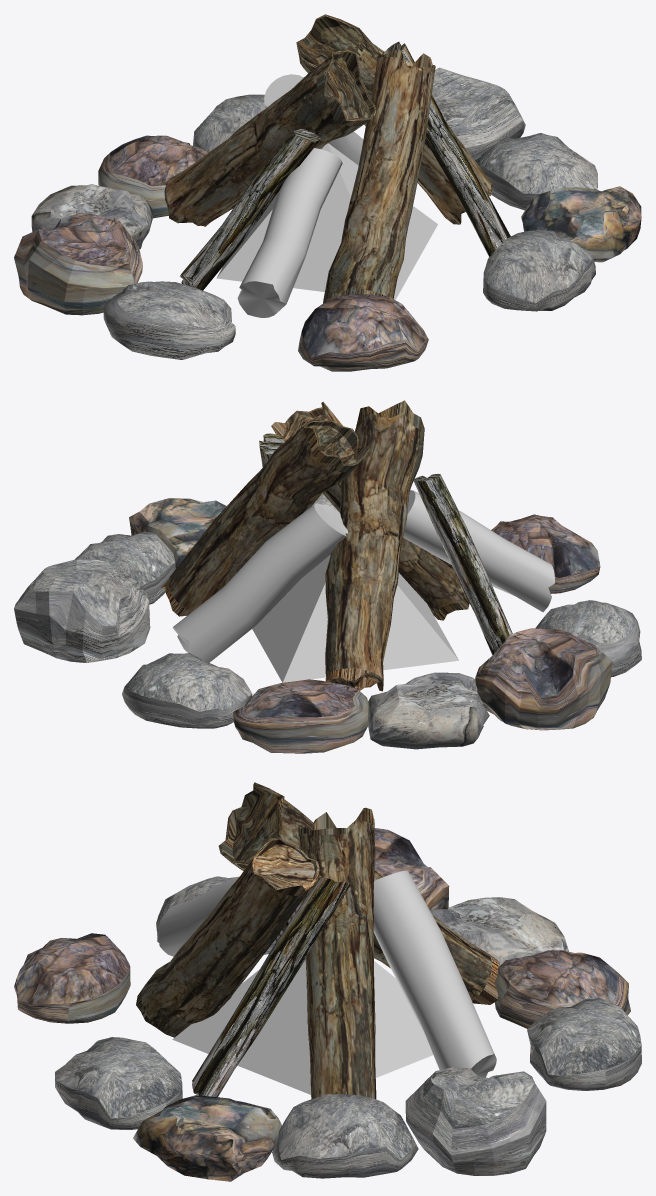
The model's file is Bonfire.fbx.
3 views of the same model, one above another, from view 1: azimuth 30°, elevation 25°; view 2: azimuth 150°, elevation 25°; view 3: azimuth 270°, elevation 25° (orthographic). The views are drawn at different scales.
Visible parts, largest first — view 1: pCylinder24, pCylinder27, pCylinder23, pCylinder20, pCylinder16, pCylinder5, pCylinder14, pPyramid1, pCube1, pCylinder10, pCylinder26, pCylinder6 (+6 smaller); view 2: pCylinder27, pCylinder26, pCylinder22, pCylinder23, pCylinder1, pPyramid1, pCylinder21, pCube2, pCylinder9, pCylinder5, pCylinder6, pCylinder24 (+4 smaller); view 3: pCylinder26, pCylinder24, pCylinder22, pCylinder1, pPyramid1, pCylinder10, pCube1, pCylinder9, pCylinder14, pCylinder16, pCylinder7, pCylinder21 (+5 smaller).
Boxes of the visible parts, <box> form: pCylinder24: <box>323,49,435,303</box>; pCylinder27: <box>164,49,376,226</box>; pCylinder23: <box>14,213,142,315</box>; pCylinder20: <box>103,281,235,359</box>; pCylinder16: <box>298,294,428,371</box>; pCylinder5: <box>237,148,342,317</box>; pCylinder14: <box>483,230,595,311</box>; pPyramid1: <box>216,143,437,299</box>; pCube1: <box>521,186,641,262</box>; pCylinder10: <box>480,133,597,210</box>; pCylinder26: <box>296,14,493,224</box>; pCylinder6: <box>180,129,320,290</box>; pCylinder27: <box>325,400,424,691</box>; pCylinder26: <box>161,419,370,616</box>; pCylinder22: <box>14,559,150,662</box>; pCylinder23: <box>475,628,612,730</box>; pCylinder1: <box>173,503,347,662</box>; pPyramid1: <box>252,555,458,682</box>; pCylinder21: <box>233,679,368,753</box>; pCube2: <box>368,672,489,749</box>; pCylinder9: <box>122,653,252,728</box>; pCylinder5: <box>403,490,554,612</box>; pCylinder6: <box>413,473,512,655</box>; pCylinder24: <box>271,401,469,620</box>; pCylinder26: <box>298,807,376,1099</box>; pCylinder24: <box>136,837,319,1037</box>; pCylinder22: <box>405,1067,546,1175</box>; pCylinder1: <box>373,870,496,1077</box>; pPyramid1: <box>172,959,433,1094</box>; pCylinder10: <box>272,1094,418,1178</box>; pCube1: <box>133,1095,281,1181</box>; pCylinder9: <box>527,998,641,1090</box>; pCylinder14: <box>55,1037,182,1129</box>; pCylinder16: <box>14,933,130,1023</box>; pCylinder7: <box>192,877,350,1097</box>; pCylinder21: <box>494,950,630,1028</box>.
Bounding box in the file's own units: 5.3 × 2.24 × 4.8.
